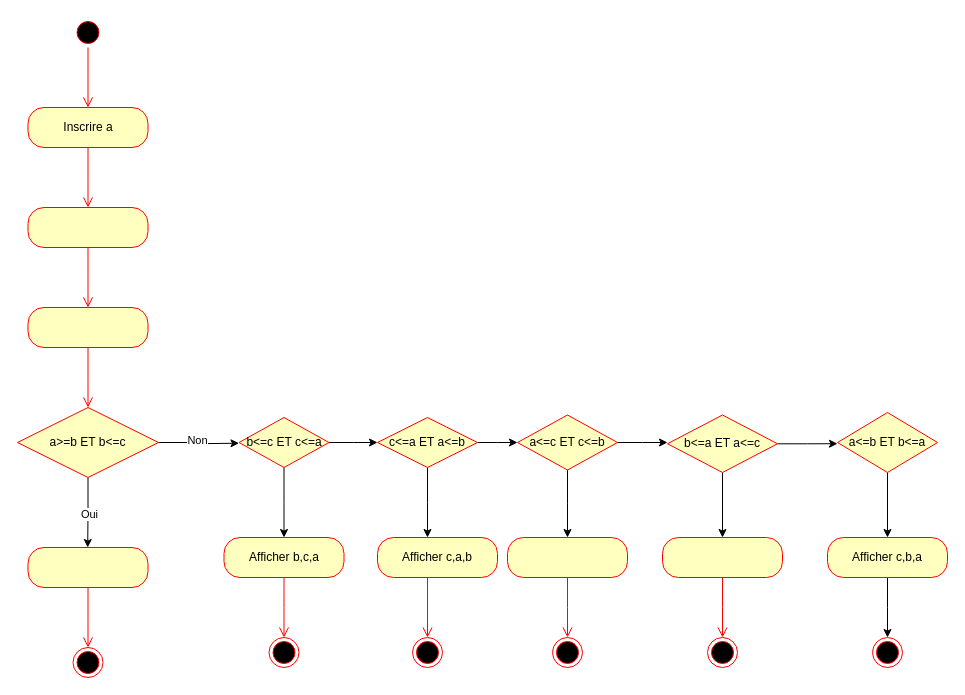
Some shapes in this 965 by 695 pixel diagram are drawn without their labels. Each missing label, with the box of its shape:
Afficher a,b,c: (27, 546, 148, 588)
Afficher a,c,b: (506, 536, 628, 578)
Afficher b,a,c: (662, 536, 782, 578)
Inscrire b: (27, 206, 148, 248)
Inscrire c: (27, 306, 148, 348)
